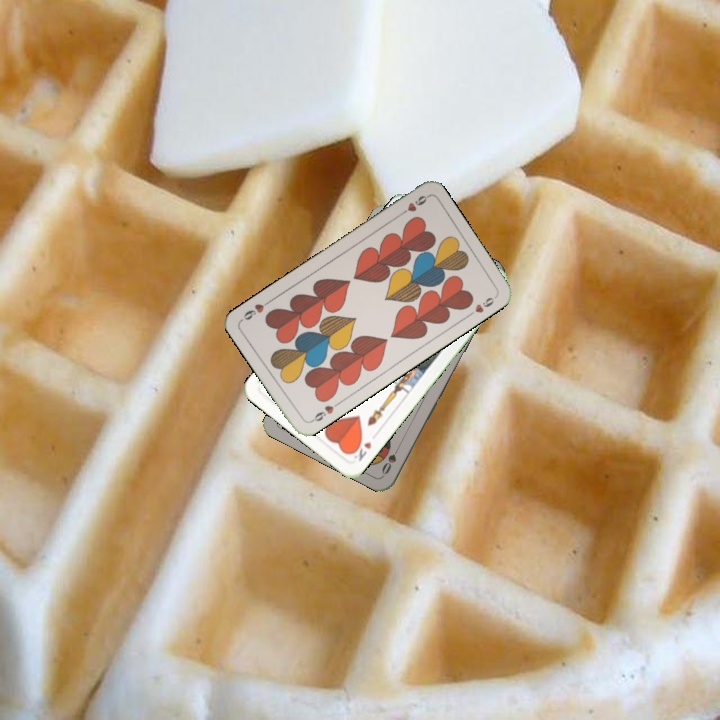H9: (395, 191, 431, 219), (306, 398, 342, 425)
HK: (347, 436, 374, 464)
SO: (378, 440, 403, 477)
